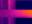Hotspot: (23, 9, 31, 16)
